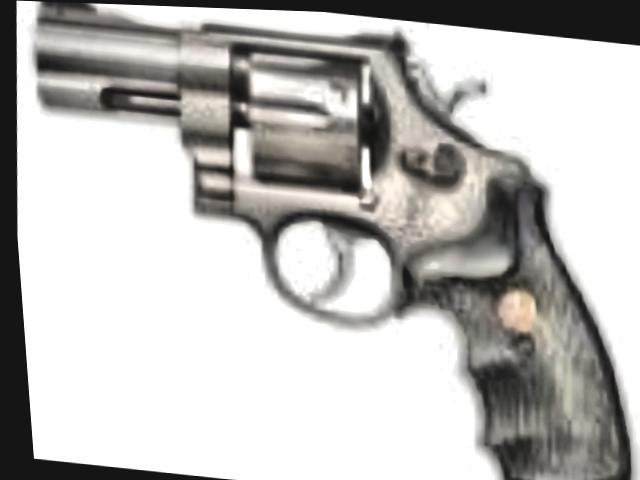pistol: (13, 0, 640, 480)
